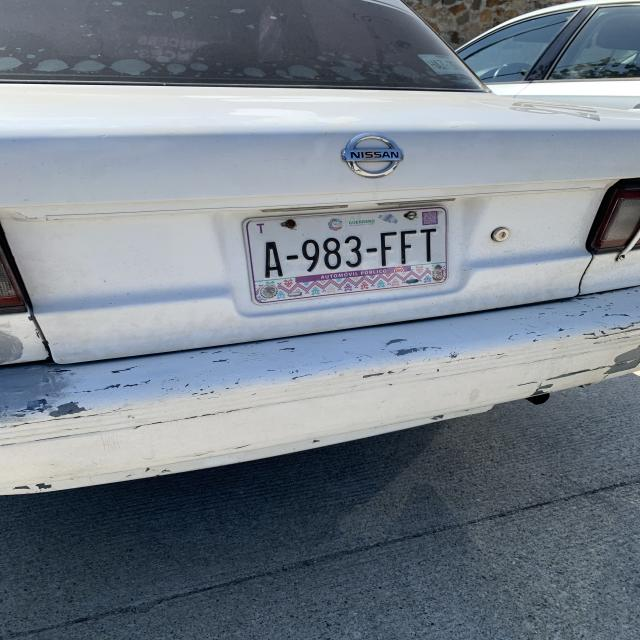placa: (256, 226, 458, 277)
